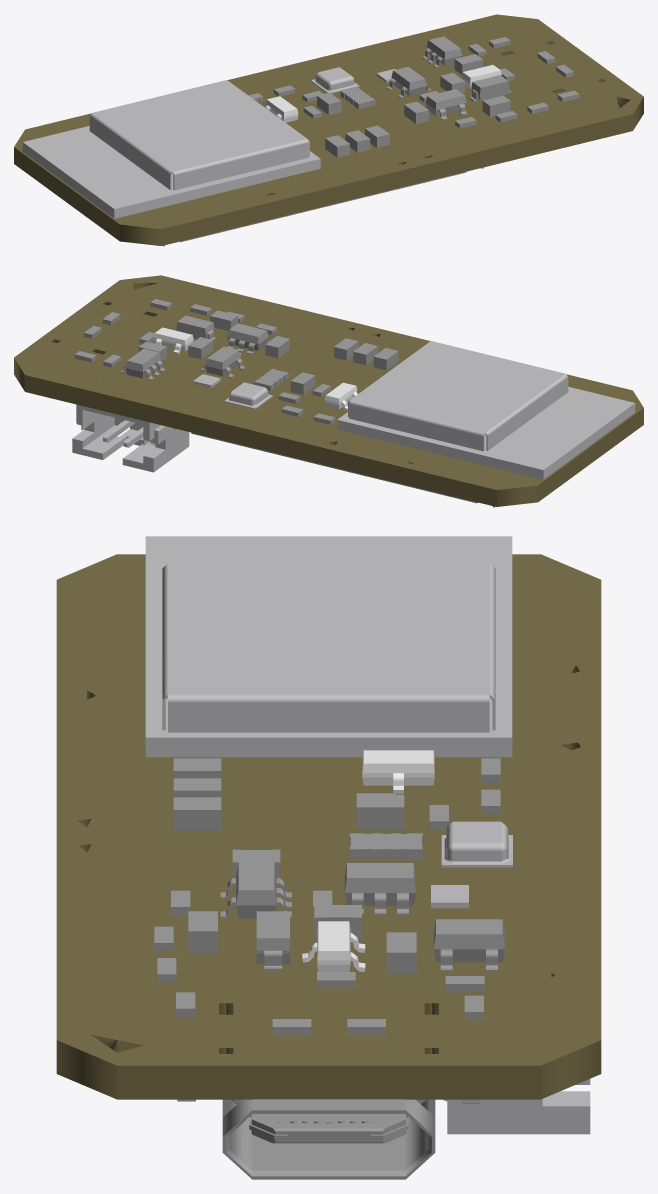
Rendered from ada-5300.glb.
3 renders of one model, top to bottom at view 1: azimuth 30°, elevation 25°; view 2: azimuth 150°, elevation 25°; view 3: azimuth 270°, elevation 25°, orthographic. The views are drawn at different scales.
Visible parts, largest first — view 1: 0.16666666666666666_0.16666666666666666_0.08333333333333333_, 0.5833333333333334_0.5833333333333334_0.5833333333333334_0.8, 0.3333333333333333_0.3333333333333333_0.3333333333333333_0, 0.9166666666666666_0.9166666666666666_0.9166666666666666_0.8; view 2: 0.16666666666666666_0.16666666666666666_0.08333333333333333_, 0.5833333333333334_0.5833333333333334_0.5833333333333334_0.8, 0.3333333333333333_0.3333333333333333_0.3333333333333333_0, 0.9166666666666666_0.9166666666666666_0.9166666666666666_0.8; view 3: 0.16666666666666666_0.16666666666666666_0.08333333333333333_, 0.5833333333333334_0.5833333333333334_0.5833333333333334_0.8, 0.3333333333333333_0.3333333333333333_0.3333333333333333_0, 0.9166666666666666_0.9166666666666666_0.9166666666666666_0.8.
Part boxes in pixels (x1=…): 0.16666666666666666_0.16666666666666666_0.08333333333333333_: x1=14, y1=14, x2=643, y2=245; 0.5833333333333334_0.5833333333333334_0.5833333333333334_0.8: x1=22, y1=67, x2=395, y2=218; 0.3333333333333333_0.3333333333333333_0.3333333333333333_0: x1=163, y1=36, x2=579, y2=246; 0.9166666666666666_0.9166666666666666_0.9166666666666666_0.8: x1=265, y1=65, x2=501, y2=122; 0.16666666666666666_0.16666666666666666_0.08333333333333333_: x1=14, y1=275, x2=643, y2=506; 0.5833333333333334_0.5833333333333334_0.5833333333333334_0.8: x1=72, y1=341, x2=635, y2=479; 0.3333333333333333_0.3333333333333333_0.3333333333333333_0: x1=75, y1=299, x2=494, y2=507; 0.9166666666666666_0.9166666666666666_0.9166666666666666_0.8: x1=154, y1=327, x2=357, y2=410; 0.16666666666666666_0.16666666666666666_0.08333333333333333_: x1=56, y1=554, x2=601, y2=1099; 0.5833333333333334_0.5833333333333334_0.5833333333333334_0.8: x1=145, y1=536, x2=590, y2=1134; 0.3333333333333333_0.3333333333333333_0.3333333333333333_0: x1=154, y1=758, x2=504, y2=1179; 0.9166666666666666_0.9166666666666666_0.9166666666666666_0.8: x1=302, y1=750, x2=434, y2=971.
Size of the model in its own units: 5.19 by 0.8921 by 2.29.
